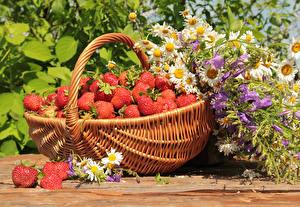chamomile: (186, 16, 207, 38), (279, 60, 296, 82), (203, 63, 217, 84), (170, 67, 188, 83), (152, 22, 170, 37), (84, 163, 99, 180), (289, 36, 300, 59), (163, 41, 177, 56), (150, 49, 165, 63), (182, 73, 195, 86), (106, 152, 119, 164)
